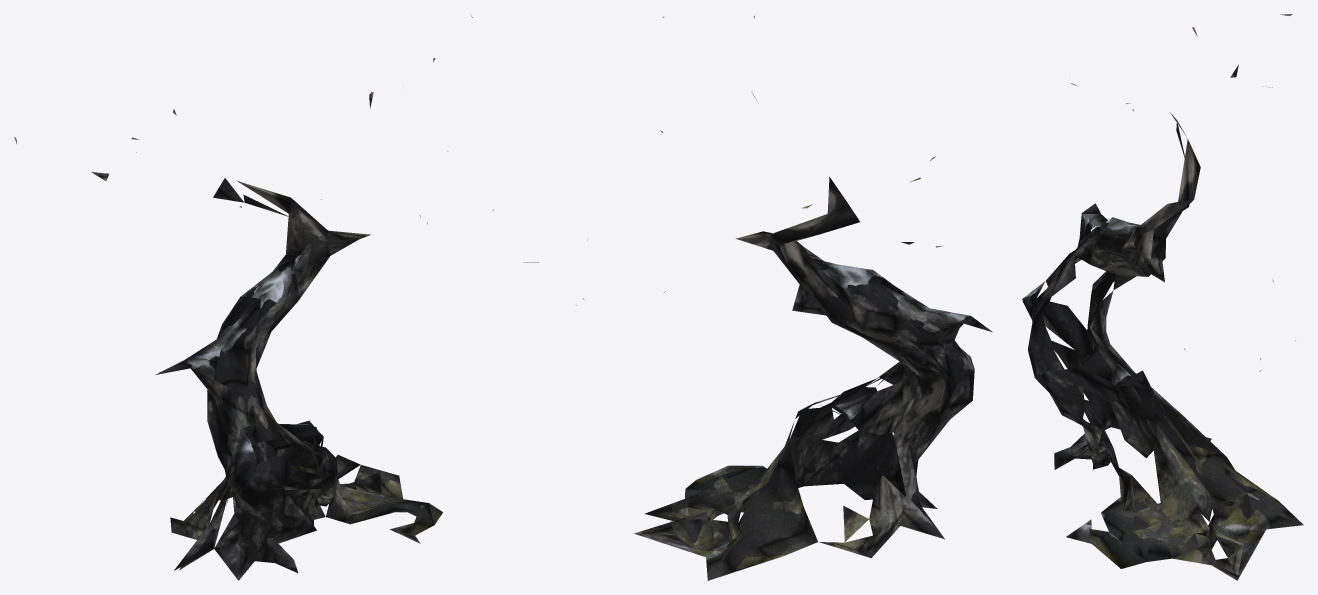
The model's file is tundra-tree-3.glb.
The picture shows the model from 3 angles, left to right: view 1: azimuth 30°, elevation 25°; view 2: azimuth 150°, elevation 25°; view 3: azimuth 270°, elevation 25°; orthographic projection. The views are drawn at different scales.
Visible parts, largest first — view 1: geometry_0; view 2: geometry_0; view 3: geometry_0.
Boxes of the visible parts, bbox=[...] form: geometry_0: bbox=[14, 14, 493, 580]; geometry_0: bbox=[523, 16, 992, 580]; geometry_0: bbox=[1022, 14, 1303, 580].
Size of the model in its own units: 0.7579 by 0.8261 by 0.4304.
1 material, 1 textured.
